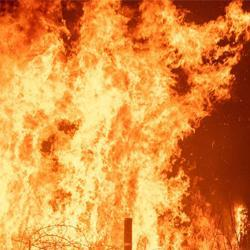fire: (7, 62, 161, 243)
